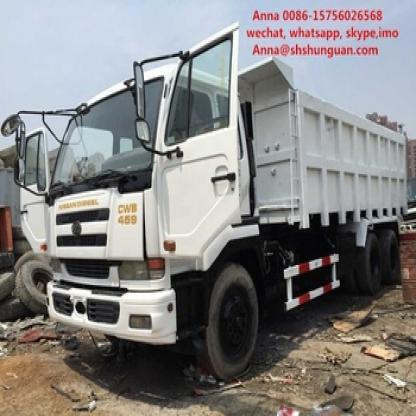dump_truck: (20, 49, 415, 381)
